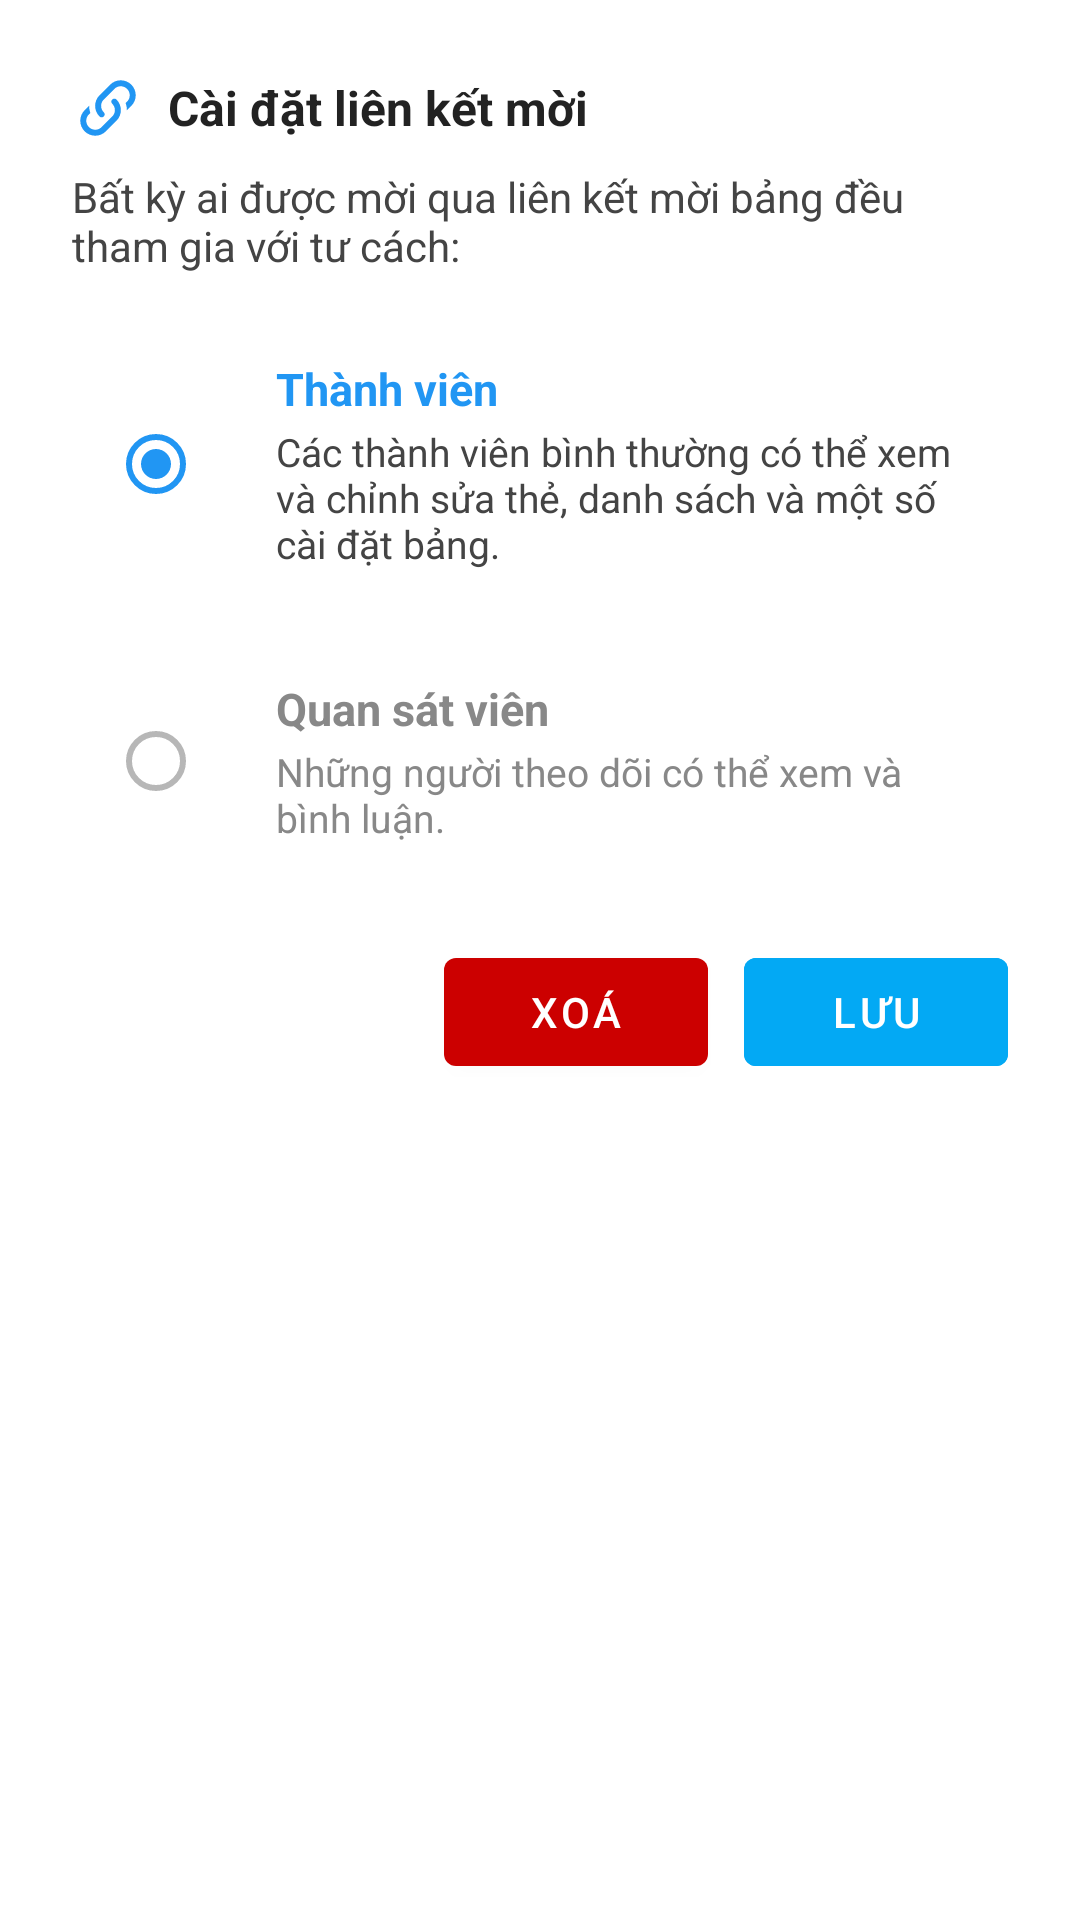

Icon bounding boxes for this 1080×1920 phone screenshot, format (x1, y1, x2, y2):
link: (80, 80, 136, 136)
